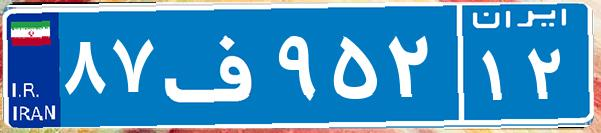1: (475, 38, 525, 113)
2: (385, 28, 445, 110), (525, 38, 570, 115)
5: (330, 28, 385, 110)
7: (110, 28, 158, 105)
8: (57, 26, 110, 107)
9: (273, 28, 330, 110)
ف: (158, 15, 273, 115)
